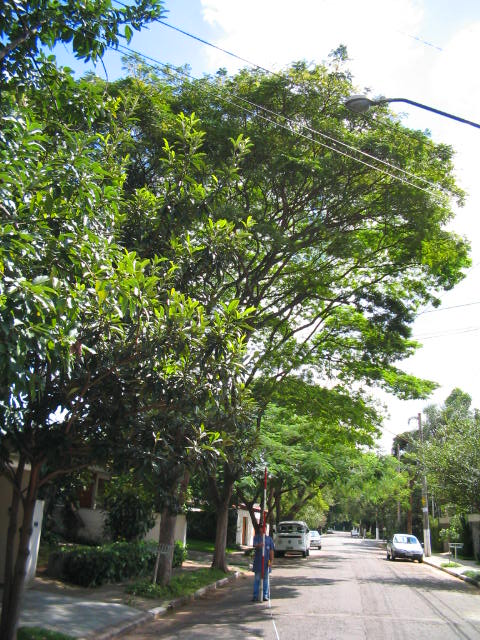stem: (1, 474, 52, 638), (147, 505, 181, 587), (204, 502, 237, 574)
stick: (255, 468, 272, 601)
